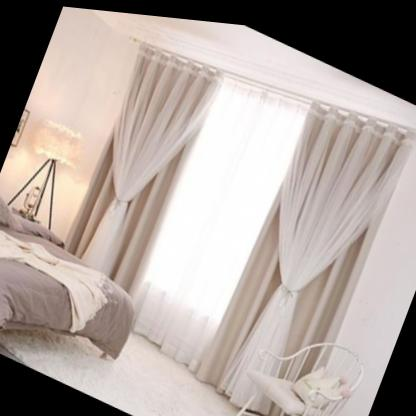Curtains: (197, 95, 408, 394), (216, 95, 407, 402), (64, 41, 223, 289), (81, 40, 223, 274)
